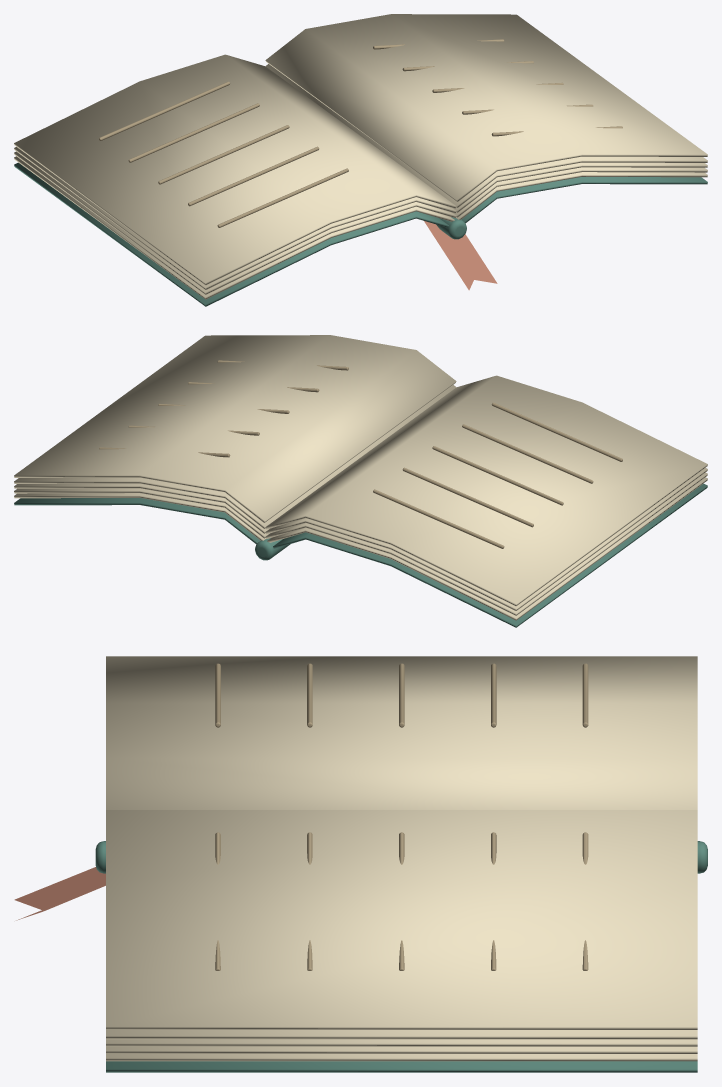
File: cozy_reading_book.glb
3 renders of one model, top to bottom at view 1: azimuth 30°, elevation 25°; view 2: azimuth 150°, elevation 25°; view 3: azimuth 270°, elevation 25°, orthographic. The views are drawn at different scales.
Parts seen in each view (by area): view 1: reading_book_BookPaper, TurningPage_BookPaper, reading_book_BookCover, reading_book_BookInk, reading_book_BookRibbon; view 2: reading_book_BookPaper, TurningPage_BookPaper, reading_book_BookCover, reading_book_BookInk; view 3: TurningPage_BookPaper, reading_book_BookPaper, reading_book_BookCover, reading_book_BookInk, reading_book_BookRibbon.
Boxes of the visible parts, bbox=[...] form: reading_book_BookPaper: bbox=[14, 54, 707, 299]; TurningPage_BookPaper: bbox=[265, 14, 707, 201]; reading_book_BookCover: bbox=[14, 162, 707, 306]; reading_book_BookInk: bbox=[99, 39, 622, 227]; reading_book_BookRibbon: bbox=[424, 221, 497, 290]; reading_book_BookPaper: bbox=[14, 375, 707, 620]; TurningPage_BookPaper: bbox=[14, 335, 456, 522]; reading_book_BookCover: bbox=[14, 483, 707, 627]; reading_book_BookInk: bbox=[99, 360, 622, 548]; TurningPage_BookPaper: bbox=[106, 810, 697, 1029]; reading_book_BookPaper: bbox=[106, 656, 697, 1061]; reading_book_BookCover: bbox=[95, 841, 707, 1072]; reading_book_BookInk: bbox=[215, 663, 588, 970]; reading_book_BookRibbon: bbox=[14, 867, 105, 920].
Size of the model in its own units: 0.44 by 0.0732 by 0.34.
